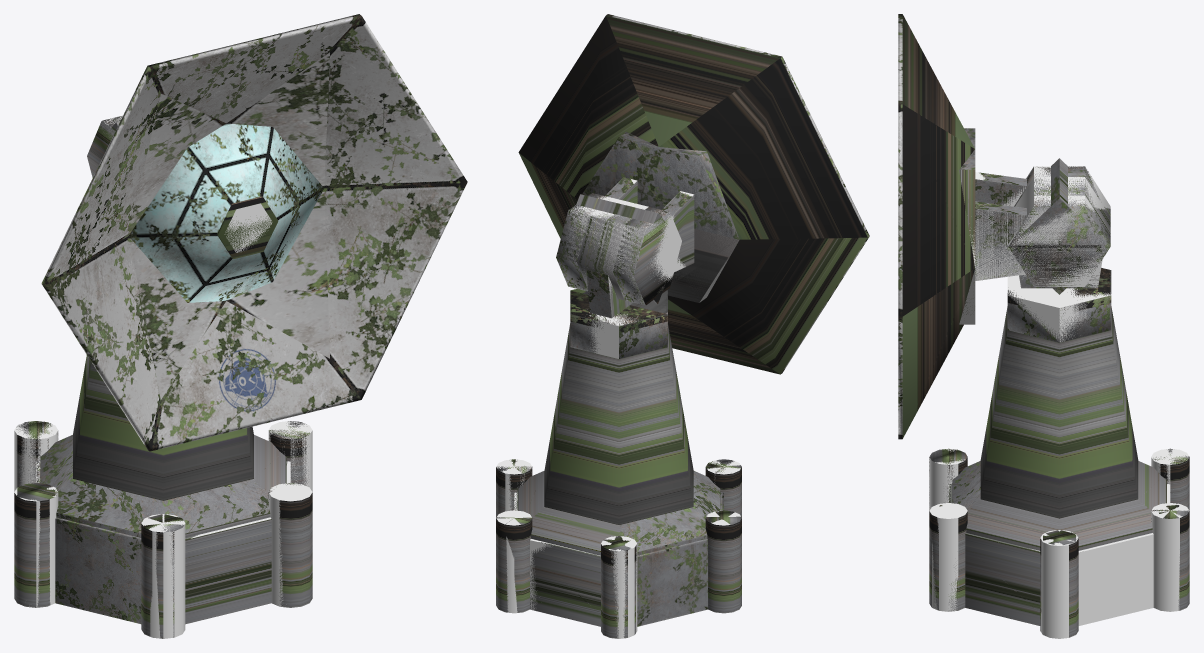
The model's file is objects_un_a_w23parabora02.gltf.
The picture shows the model from 3 angles, left to right: view 1: azimuth 30°, elevation 25°; view 2: azimuth 150°, elevation 25°; view 3: azimuth 270°, elevation 25°; orthographic projection. The views are drawn at different scales.
Visible parts, largest first — view 1: um_objects_un_parabora02_model_lod0Shape:objects_un_a_w23par (×4), um_objects_un_parabora02_model_lod2Shape:objects_un_a_w23par (×2), um_objects_un_parabora02_model_lod1Shape:objects_un_a_w23par; view 2: um_objects_un_parabora02_model_lod2Shape:objects_un_a_w23par (×3), um_objects_un_parabora02_model_lod0Shape:objects_un_a_w23par (×4), um_objects_un_parabora02_model_lod1Shape:objects_un_a_w23par (×2); view 3: um_objects_un_parabora02_model_lod0Shape:objects_un_a_w23par (×4), um_objects_un_parabora02_model_lod2Shape:objects_un_a_w23par (×3), um_objects_un_parabora02_model_lod1Shape:objects_un_a_w23par (×2).
Boxes of the visible parts, x1,y1,x2,y2 form: um_objects_un_parabora02_model_lod0Shape:objects_un_a_w23par (×4): [14, 14, 467, 638]; um_objects_un_parabora02_model_lod2Shape:objects_un_a_w23par (×2): [73, 52, 329, 500]; um_objects_un_parabora02_model_lod1Shape:objects_un_a_w23par: [17, 116, 304, 537]; um_objects_un_parabora02_model_lod2Shape:objects_un_a_w23par (×3): [518, 15, 867, 549]; um_objects_un_parabora02_model_lod0Shape:objects_un_a_w23par (×4): [496, 14, 869, 638]; um_objects_un_parabora02_model_lod1Shape:objects_un_a_w23par (×2): [522, 137, 739, 555]; um_objects_un_parabora02_model_lod0Shape:objects_un_a_w23par (×4): [898, 14, 1189, 638]; um_objects_un_parabora02_model_lod2Shape:objects_un_a_w23par (×3): [902, 14, 1179, 542]; um_objects_un_parabora02_model_lod1Shape:objects_un_a_w23par (×2): [932, 191, 1185, 550].
Size of the model in its own units: 10 by 13.38 by 6.82.
Materials: 5 (4 with a texture image).
